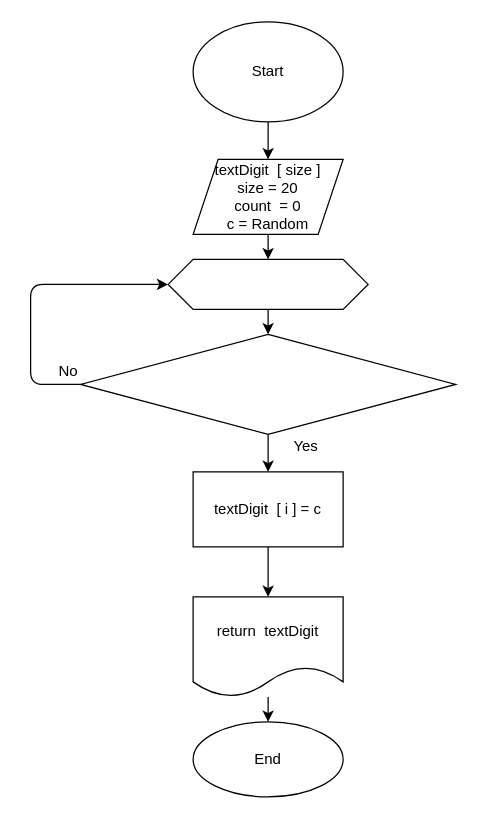
Image size: 478x819. Some labels were removed from this diagram. The box of each missing label's shape, as (x1, y1, x2, y2) in pixels:
c >= '0' && c <='9' c >= 'a' && c <='z' c >= 'A' && c <='Z': (79, 333, 456, 434)
i =0; i < size; i++: (167, 258, 368, 309)
